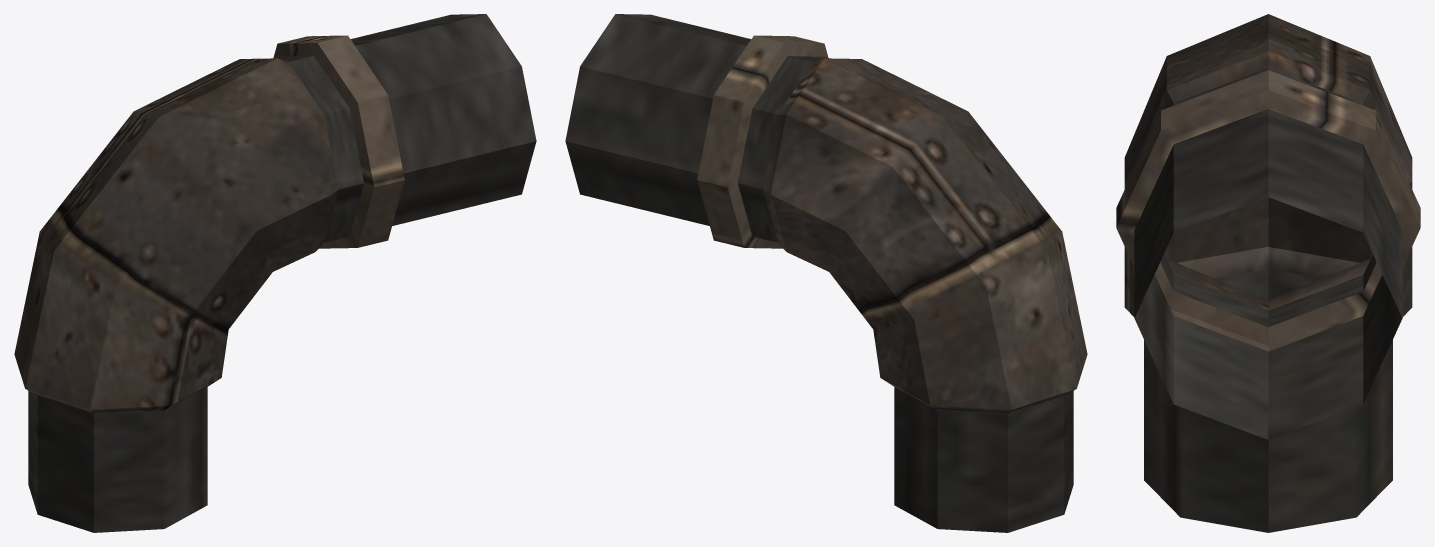
The model's file is pipe_7.fbx.
3 renders of one model, left to right at view 1: azimuth 30°, elevation 25°; view 2: azimuth 150°, elevation 25°; view 3: azimuth 270°, elevation 25°, orthographic. The views are drawn at different scales.
Visible parts, largest first — view 1: pipe_7; view 2: pipe_7; view 3: pipe_7.
Boxes of the visible parts, x1,y1,x2,y2 form: pipe_7: (14,14,536,532); pipe_7: (565,14,1087,532); pipe_7: (1116,14,1420,532).
Bounding box in the file's own units: 2.5 × 2.09 × 1.07.
